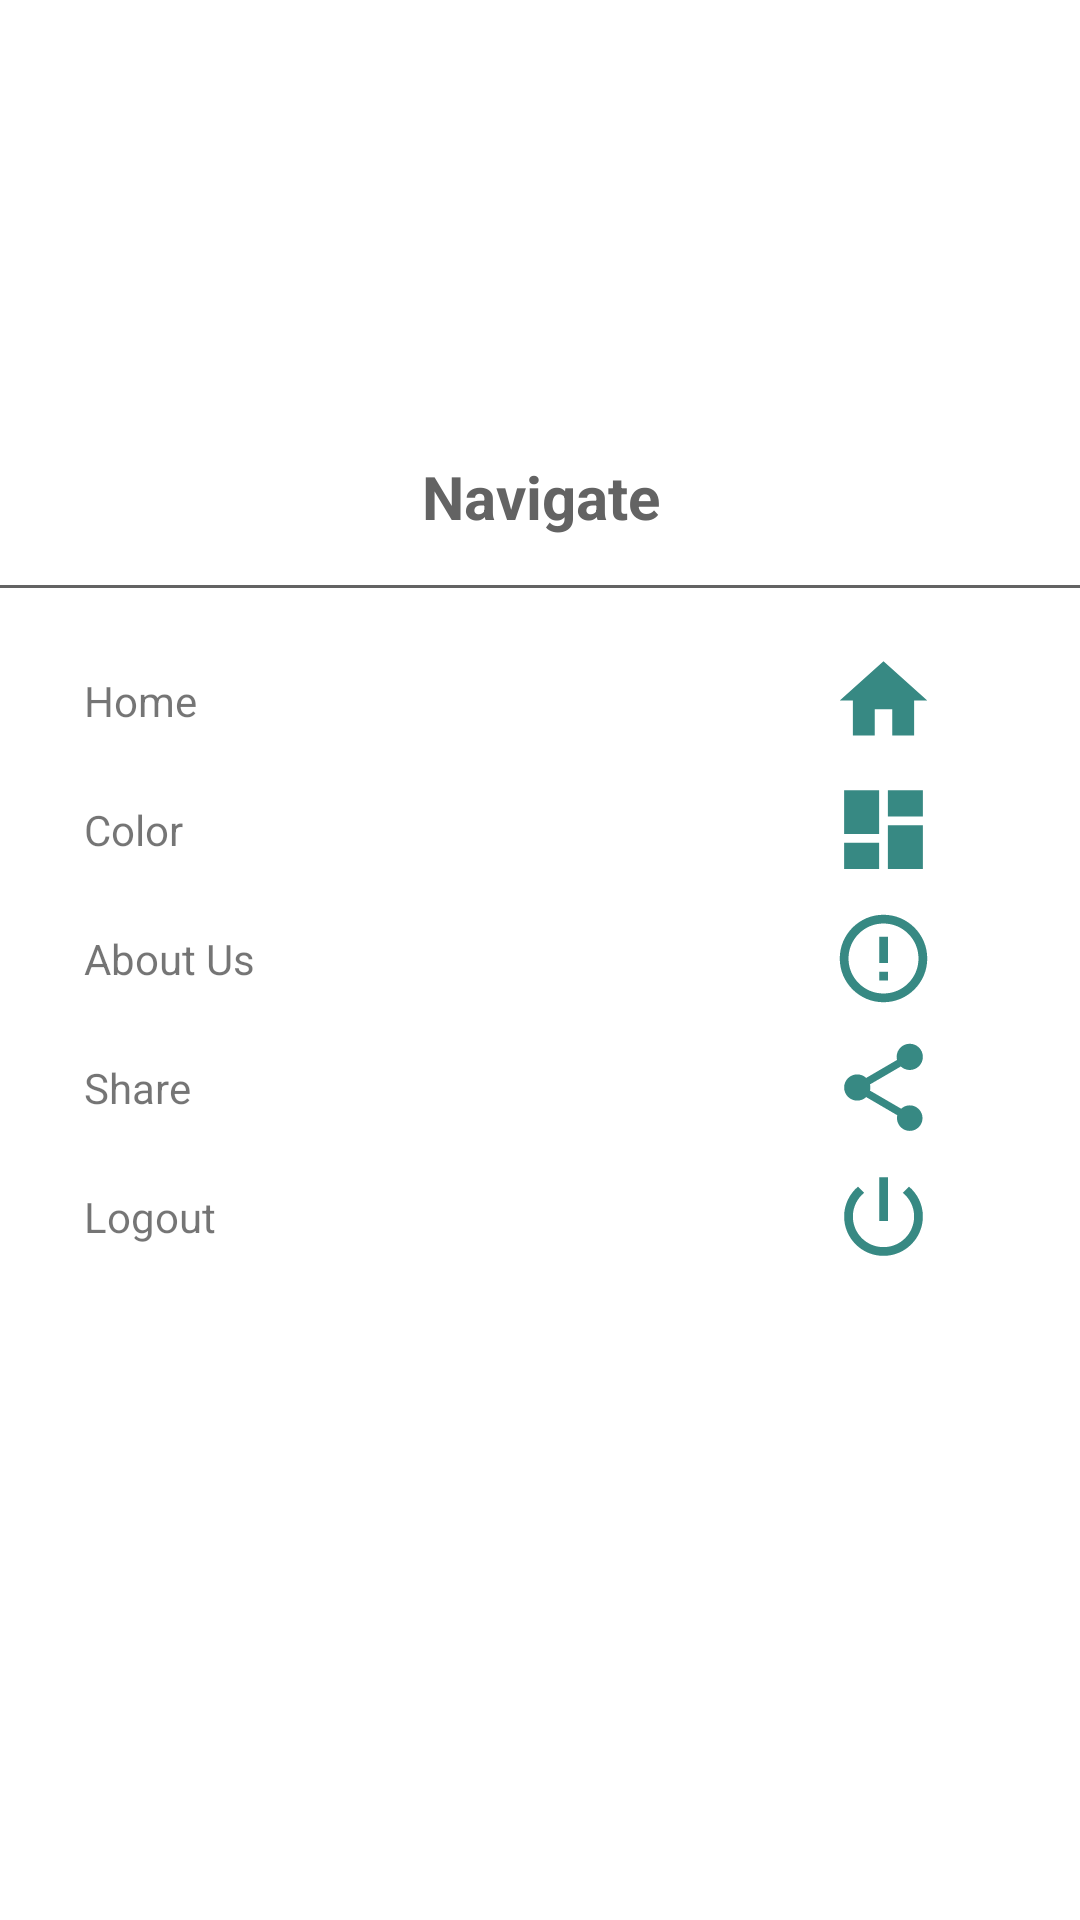

Locate icon controls on the screen. Image size 1080px×1920px, boxes as (x1, y1, x2, y2).
dashboard: (844, 790, 923, 869)
error: (839, 914, 928, 1003)
power settings: (844, 1177, 923, 1256)
